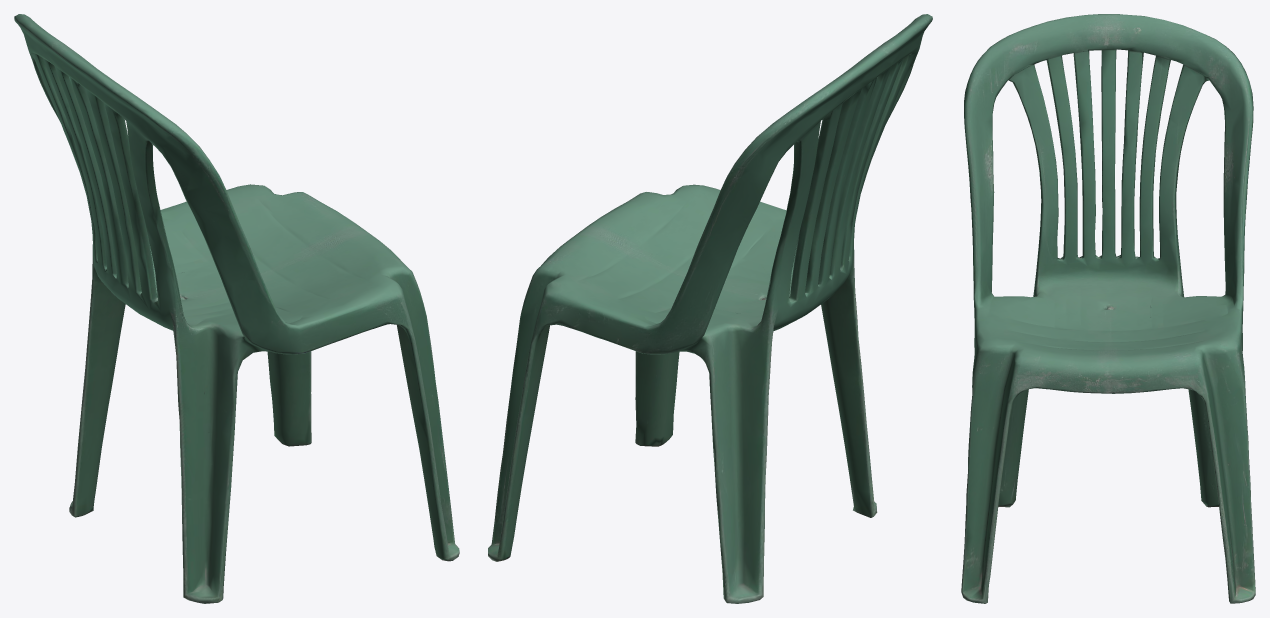
Rendered from silla.glb.
3 views of the same model, side by side, from view 1: azimuth 30°, elevation 25°; view 2: azimuth 150°, elevation 25°; view 3: azimuth 270°, elevation 25° (orthographic). The views are drawn at different scales.
Parts seen in each view (by area): view 1: tripo_node_cd67f6d6-a0c6-4213-8f35-bc5ef7490396; view 2: tripo_node_cd67f6d6-a0c6-4213-8f35-bc5ef7490396; view 3: tripo_node_cd67f6d6-a0c6-4213-8f35-bc5ef7490396.
Boxes of the visible parts, bbox=[...] form: tripo_node_cd67f6d6-a0c6-4213-8f35-bc5ef7490396: bbox=[14, 14, 459, 603]; tripo_node_cd67f6d6-a0c6-4213-8f35-bc5ef7490396: bbox=[488, 14, 932, 603]; tripo_node_cd67f6d6-a0c6-4213-8f35-bc5ef7490396: bbox=[961, 14, 1255, 603].
Size of the model in its own units: 0.5506 by 0.85 by 0.4988.
1 material, 1 textured.
